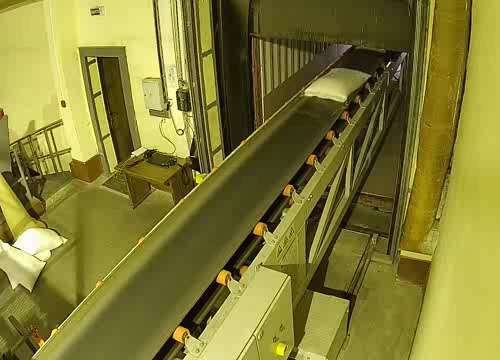bag: (299, 66, 374, 104), (354, 45, 387, 56)
